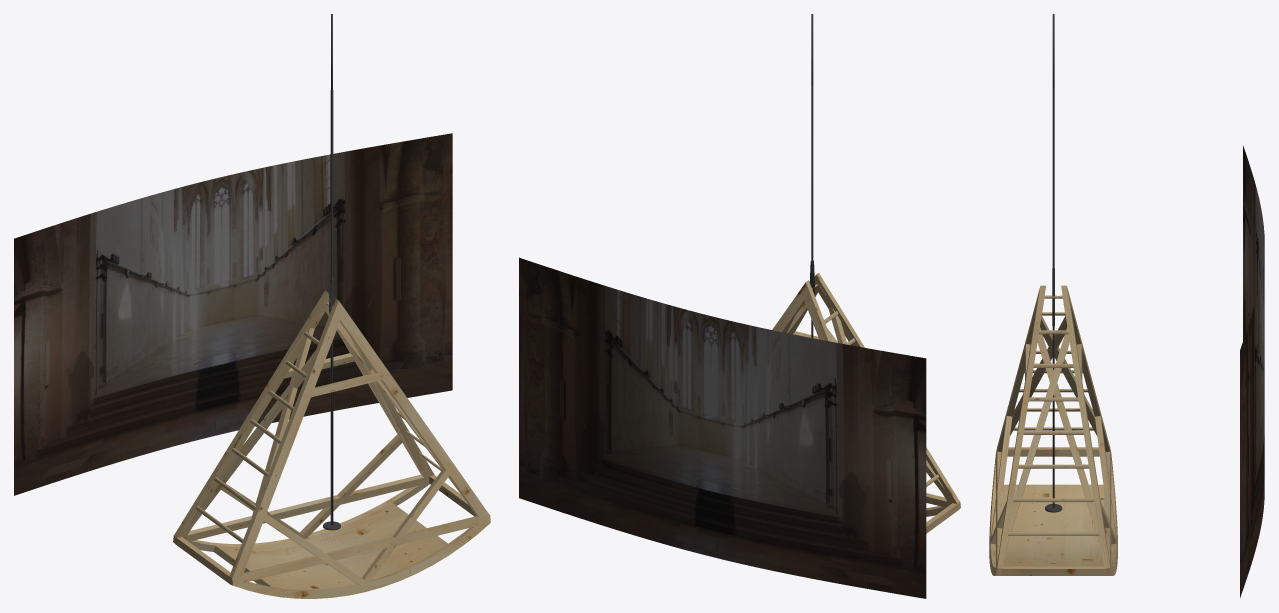
The model's file is pitchcontrola.glb.
3 views of the same model, side by side, from view 1: azimuth 30°, elevation 25°; view 2: azimuth 150°, elevation 25°; view 3: azimuth 270°, elevation 25° (orthographic). The views are drawn at different scales.
Parts seen in each view (by area): view 1: videotarget, A, stab; view 2: videotarget, A, stab; view 3: A, videotarget, stab.
Part boxes in pixels (<box>): videotarget: <box>14,133,452,495</box>; A: <box>173,290,490,598</box>; stab: <box>323,14,340,530</box>; videotarget: <box>519,257,926,598</box>; A: <box>772,272,960,533</box>; stab: <box>809,14,814,338</box>; A: <box>989,285,1117,575</box>; videotarget: <box>1240,145,1264,597</box>; stab: <box>1045,14,1062,512</box>.
Size of the model in its own units: 8.47 by 10.25 by 4.79.
Materials: 3 (2 with a texture image).
